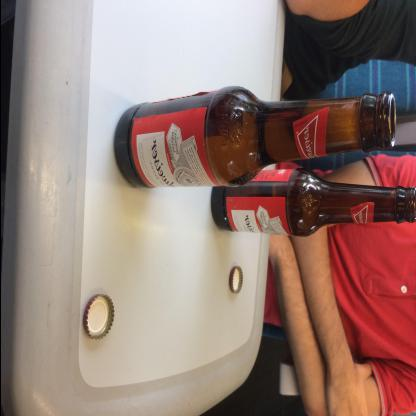cam: (113, 85, 397, 190), (211, 169, 416, 234)
metal: (83, 294, 115, 342), (229, 267, 243, 295)
